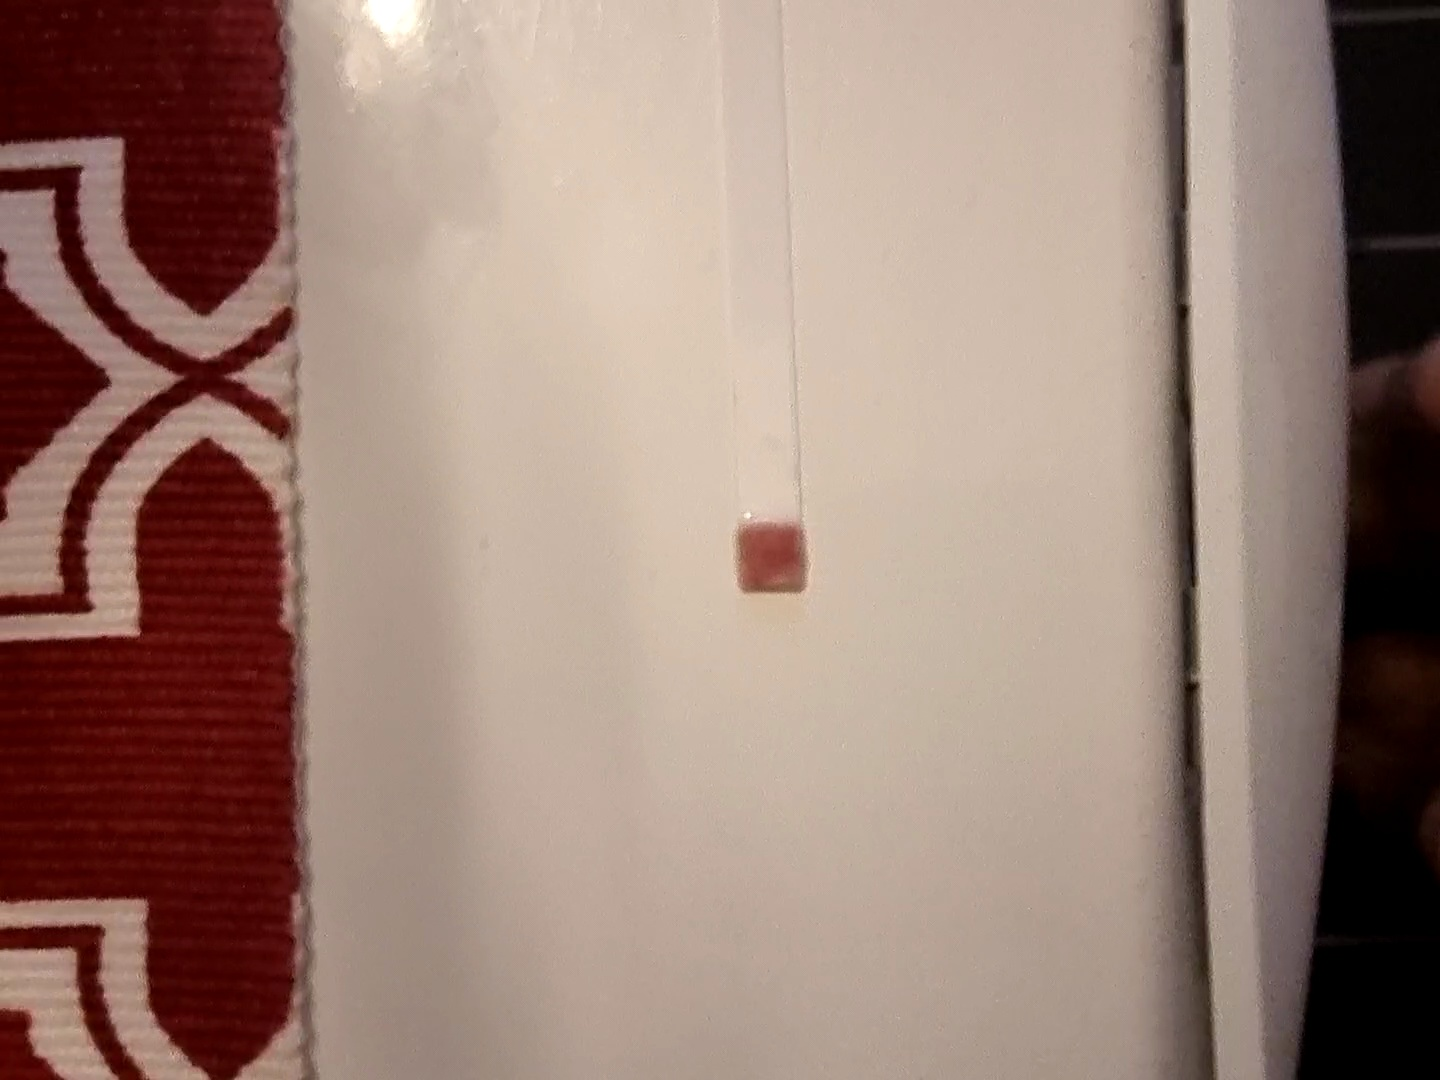keto-tip: (736, 518, 813, 601)
